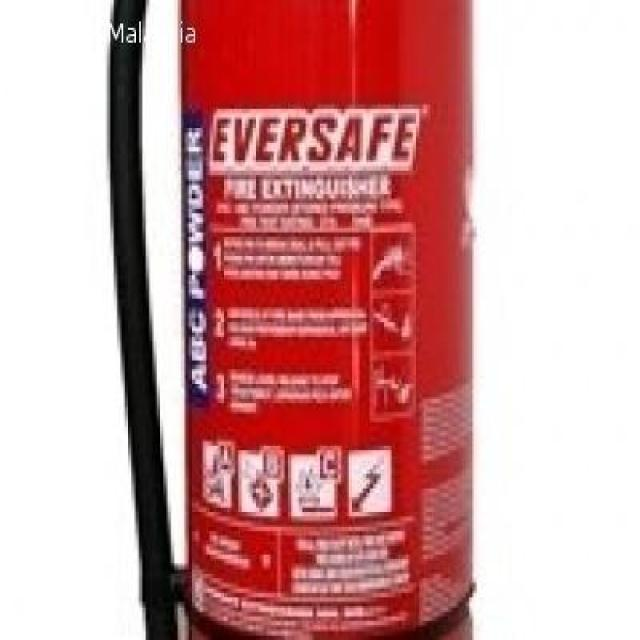fire_extinguisher: (100, 0, 482, 638)
